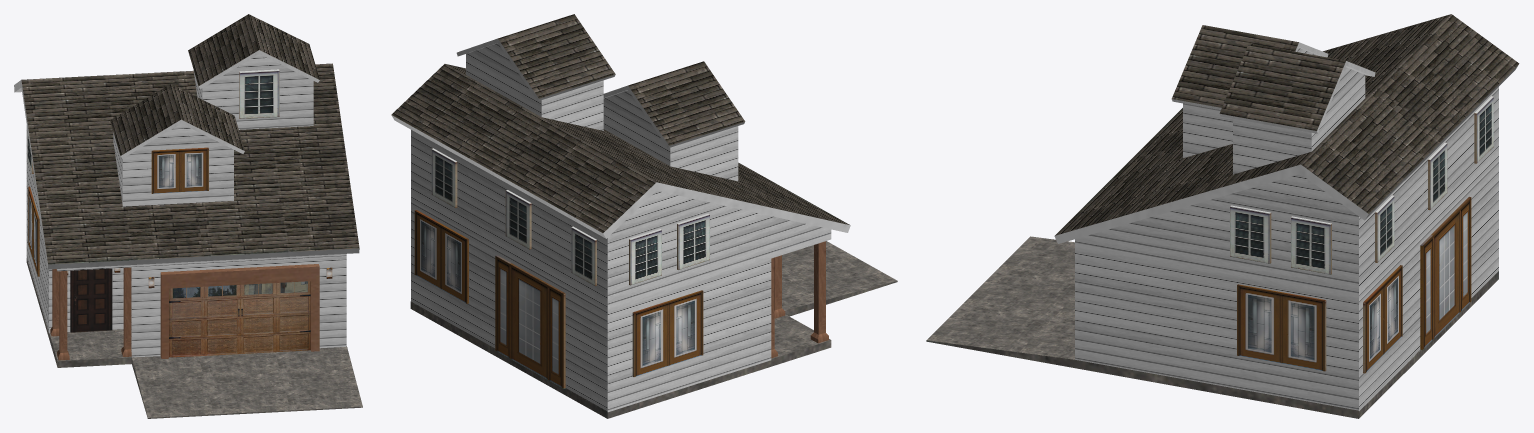
File: house_05__7_.FBX
The picture shows the model from 3 angles, left to right: view 1: azimuth 30°, elevation 25°; view 2: azimuth 150°, elevation 25°; view 3: azimuth 270°, elevation 25°; orthographic projection. The views are drawn at different scales.
Visible parts, largest first — view 1: house_05__7_; view 2: house_05__7_; view 3: house_05__7_.
Part boxes in pixels (x1,y1,x2,y2): house_05__7_: (14, 14, 362, 418); house_05__7_: (391, 14, 897, 418); house_05__7_: (926, 14, 1519, 418).
Bounding box in the file's own units: 140 × 99.52 × 170.
